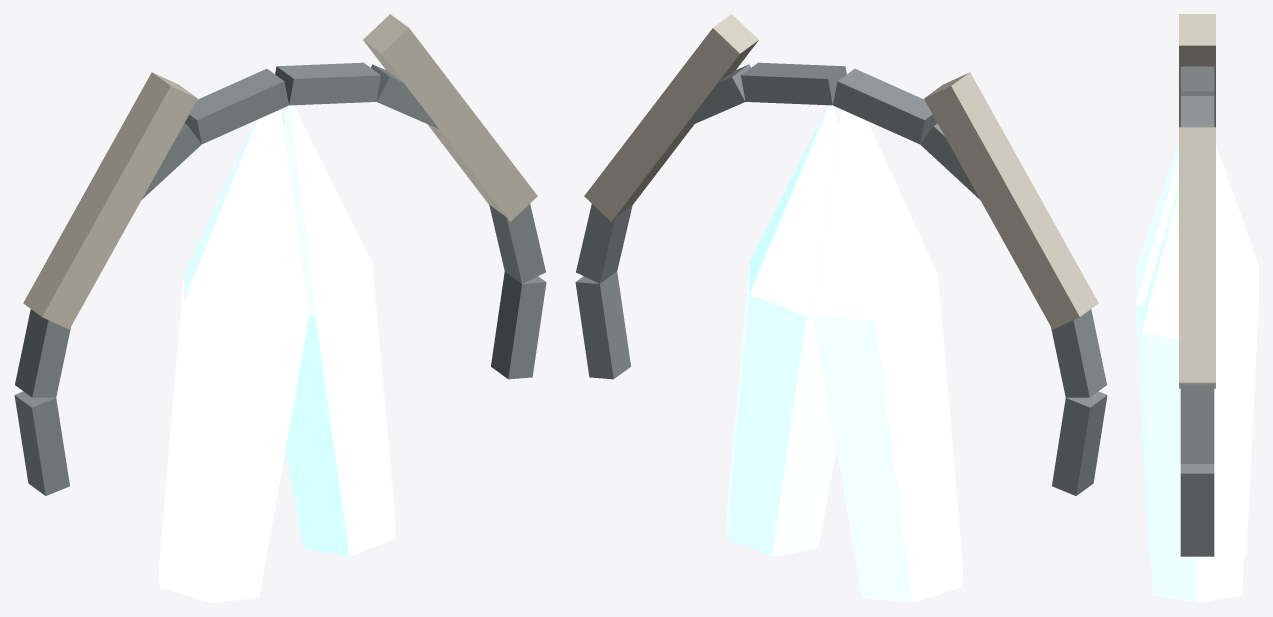
File: boss-kall-winterheart.glb
3 renders of one model, left to right at view 1: azimuth 30°, elevation 25°; view 2: azimuth 150°, elevation 25°; view 3: azimuth 270°, elevation 25°, orthographic. The views are drawn at different scales.
Parts seen in each view (by area): view 1: left-core, right-core, left-horn, right-horn, winter-halo-0, winter-halo-5, winter-halo-9, winter-halo-4, winter-halo-8, winter-halo-1, winter-halo-3, winter-halo-6; view 2: left-core, right-core, left-horn, right-horn, winter-halo-0, winter-halo-5, winter-halo-9, winter-halo-4, winter-halo-8, winter-halo-1, winter-halo-3, winter-halo-6; view 3: right-core, right-horn, left-core, winter-halo-0, winter-halo-1, left-horn, winter-halo-4, winter-halo-5.
Boxes of the visible parts, bbox=[...] form: left-core: bbox=[159, 109, 309, 602]; right-core: bbox=[283, 105, 395, 556]; left-horn: bbox=[23, 72, 197, 329]; right-horn: bbox=[363, 14, 537, 221]; winter-halo-0: bbox=[491, 271, 546, 379]; winter-halo-5: bbox=[184, 68, 288, 144]; winter-halo-9: bbox=[14, 391, 69, 495]; winter-halo-4: bbox=[275, 62, 380, 105]; winter-halo-8: bbox=[15, 309, 70, 397]; winter-halo-1: bbox=[489, 204, 545, 283]; winter-halo-3: bbox=[371, 64, 438, 128]; winter-halo-6: bbox=[142, 123, 201, 199]; left-core: bbox=[812, 109, 962, 602]; right-core: bbox=[726, 105, 838, 556]; left-horn: bbox=[924, 72, 1098, 329]; right-horn: bbox=[584, 14, 758, 221]; winter-halo-0: bbox=[575, 271, 630, 379]; winter-halo-5: bbox=[833, 68, 937, 144]; winter-halo-9: bbox=[1052, 391, 1107, 495]; winter-halo-4: bbox=[741, 62, 846, 105]; winter-halo-8: bbox=[1051, 309, 1106, 397]; winter-halo-1: bbox=[576, 204, 632, 283]; winter-halo-3: bbox=[683, 64, 750, 128]; winter-halo-6: bbox=[920, 123, 979, 199]; right-core: bbox=[1141, 185, 1253, 602]; right-horn: bbox=[1179, 127, 1215, 388]; left-core: bbox=[1136, 144, 1258, 553]; winter-halo-0: bbox=[1180, 464, 1214, 556]; winter-halo-1: bbox=[1180, 384, 1214, 463]; left-horn: bbox=[1179, 14, 1215, 127]; winter-halo-4: bbox=[1180, 96, 1214, 127]; winter-halo-5: bbox=[1180, 67, 1214, 95].
Bounding box in the file's own units: 0.939 × 0.9102 × 0.1992.
